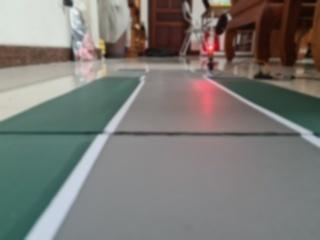red: (202, 41, 221, 72)
